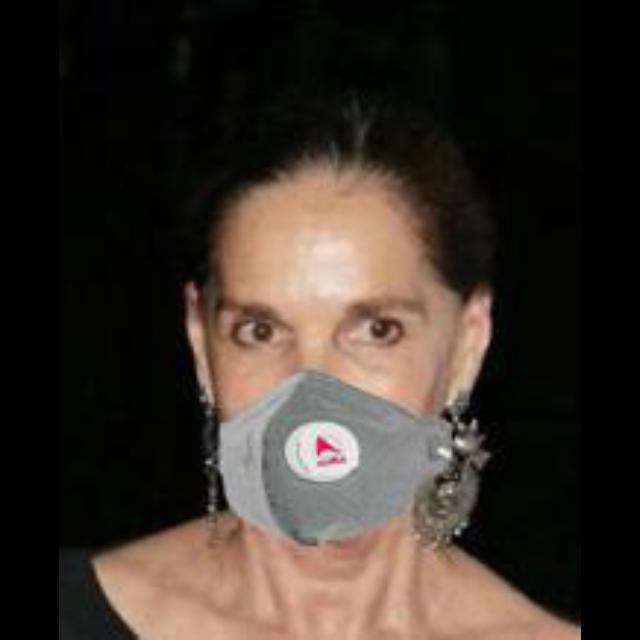suspicion: (193, 150, 507, 554)
